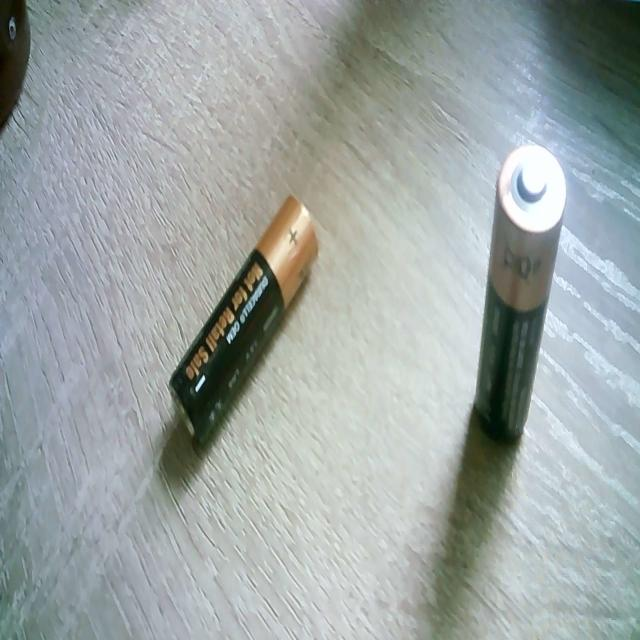AA: (168, 192, 318, 453), (472, 141, 567, 443)
